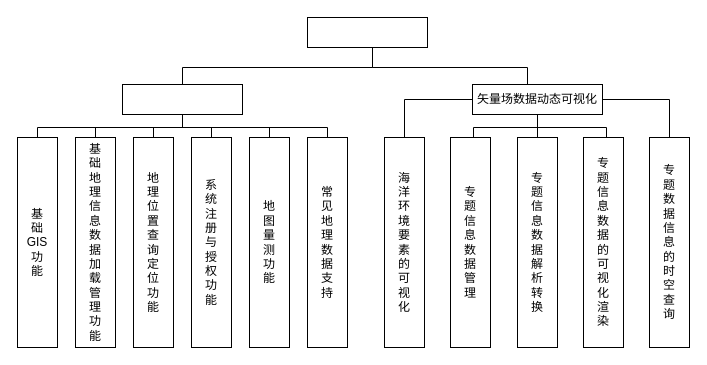
The diagram is 707 pixels wide and 365 high, and some of its shapes have lost their labels. The box of each missing label's shape, as (x1, y1, x2, y2) in pixels:
Web数字地球构建: (122, 84, 242, 114)
数据环境可视化: (306, 16, 428, 48)
